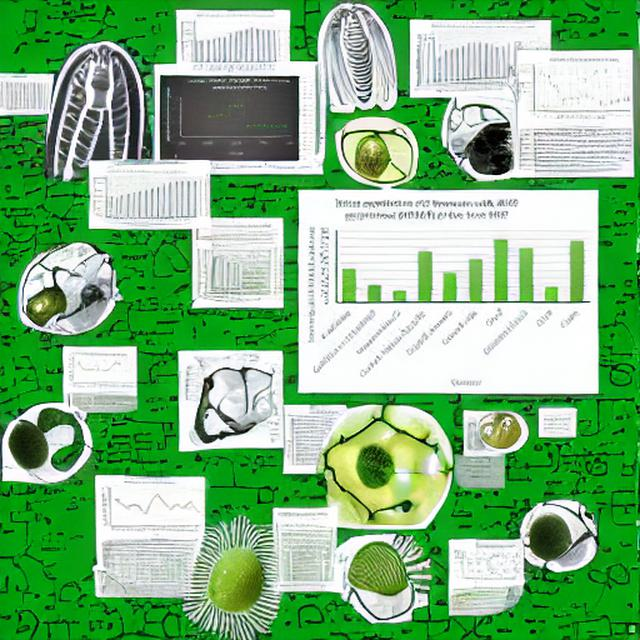Graph: (300, 195, 595, 391), (164, 76, 299, 157), (520, 57, 631, 122), (91, 169, 200, 228), (182, 13, 278, 76), (100, 479, 201, 536), (66, 352, 132, 391)
